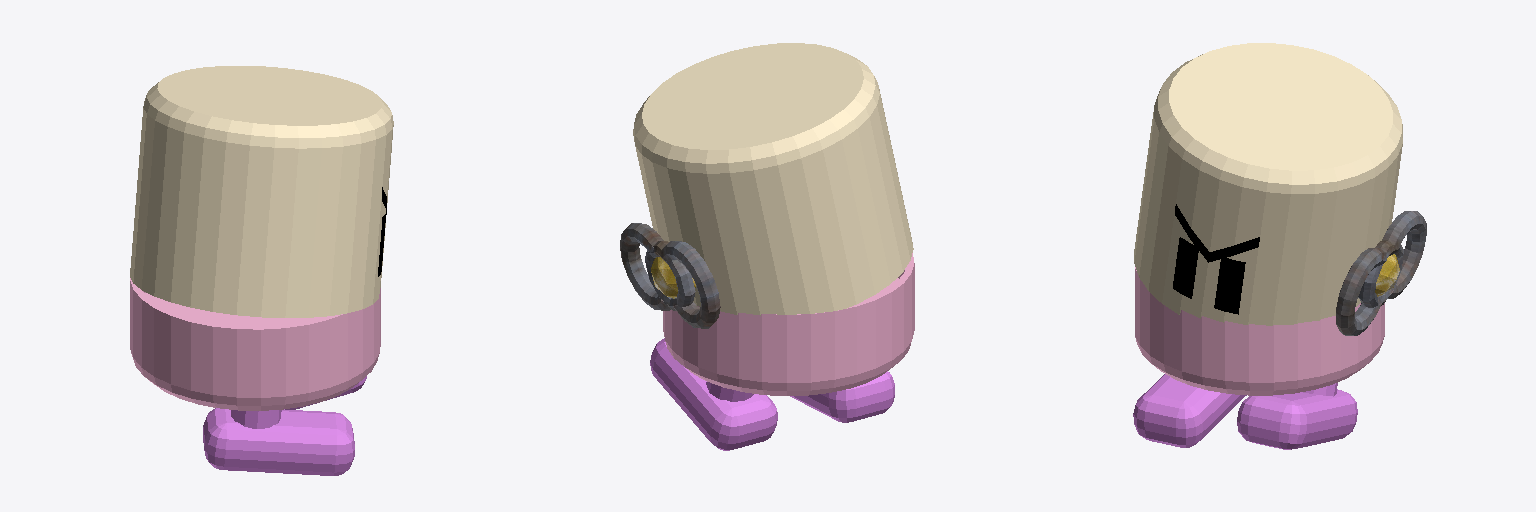
3 views of the same model, side by side, from view 1: azimuth 30°, elevation 25°; view 2: azimuth 150°, elevation 25°; view 3: azimuth 270°, elevation 25° (orthographic).
Visible parts, largest first — view 1: Head, Jaw, RightLeg; view 2: Head, Jaw, WindupKey, LeftLeg, RightLeg; view 3: Head, Jaw, LeftLeg, WindupKey, RightLeg.
Part boxes in pixels (left/top/right/bottom): Head: left=130, top=66, right=393, bottom=317; Jaw: left=130, top=278, right=380, bottom=410; RightLeg: left=203, top=408, right=354, bottom=475; Head: left=633, top=43, right=913, bottom=315; Jaw: left=663, top=253, right=914, bottom=395; WindupKey: left=620, top=223, right=720, bottom=328; LeftLeg: left=650, top=338, right=777, bottom=450; RightLeg: left=790, top=371, right=894, bottom=422; Head: left=1134, top=43, right=1402, bottom=325; Jaw: left=1135, top=267, right=1384, bottom=395; LeftLeg: left=1237, top=383, right=1357, bottom=449; WindupKey: left=1336, top=211, right=1426, bottom=335; RightLeg: left=1133, top=374, right=1246, bottom=447.
Bounding box in the file's own units: 109 × 154 × 117.
Materials: 6 (2 with a texture image).